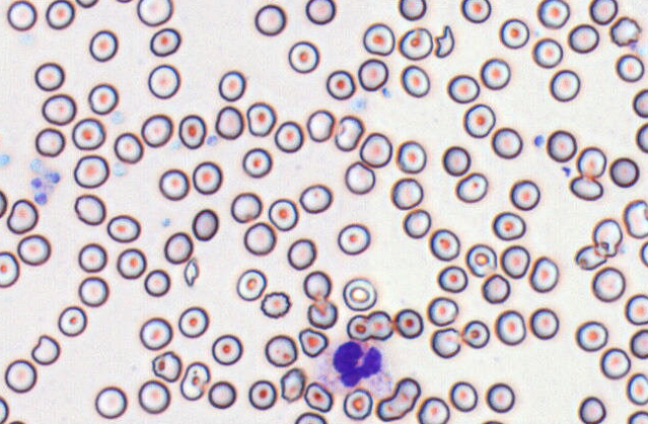GRAN: (322, 337, 391, 391)
PLT: (46, 169, 62, 184), (33, 190, 48, 206), (205, 132, 219, 148), (28, 176, 43, 190), (533, 134, 547, 148), (0, 152, 11, 168)
RBC: (376, 377, 420, 421), (73, 154, 109, 188), (591, 266, 625, 302), (342, 277, 376, 311), (398, 26, 432, 60), (4, 358, 37, 393), (359, 132, 392, 167), (147, 64, 180, 99), (6, 198, 38, 234), (494, 309, 526, 345), (94, 385, 127, 419), (243, 221, 276, 255), (139, 316, 172, 350), (71, 117, 105, 150), (140, 113, 173, 147), (138, 379, 170, 414), (41, 93, 76, 125), (463, 103, 495, 138), (529, 256, 559, 293), (264, 334, 297, 367), (362, 22, 395, 55), (465, 243, 497, 277), (17, 233, 50, 265), (390, 177, 423, 209), (455, 171, 488, 203), (337, 223, 370, 255), (254, 3, 286, 36), (287, 40, 319, 73), (246, 101, 276, 136), (599, 347, 631, 379), (73, 193, 105, 225), (230, 191, 262, 223), (344, 161, 375, 194), (575, 320, 608, 351), (357, 58, 388, 91), (429, 228, 460, 261), (87, 82, 118, 115), (546, 129, 577, 162), (500, 244, 530, 278), (192, 160, 222, 194), (342, 388, 373, 420), (211, 333, 242, 365), (609, 15, 641, 46), (158, 168, 189, 200), (491, 127, 522, 159), (549, 69, 580, 101), (163, 231, 193, 264), (236, 268, 266, 301), (268, 198, 298, 231), (299, 183, 332, 213), (88, 29, 118, 62), (400, 64, 430, 97), (480, 57, 510, 90), (396, 140, 426, 173), (106, 214, 140, 243), (214, 105, 243, 139), (178, 114, 206, 149), (430, 327, 461, 358), (78, 276, 109, 307), (6, 0, 37, 31), (532, 37, 563, 68), (509, 179, 540, 210), (576, 146, 606, 178), (426, 296, 458, 326), (116, 247, 146, 279), (178, 306, 208, 338), (529, 307, 559, 339), (567, 23, 599, 53), (499, 17, 529, 49), (492, 211, 525, 240), (287, 237, 316, 270), (446, 74, 479, 103), (136, 0, 172, 26), (306, 299, 337, 329), (57, 305, 87, 336), (393, 308, 423, 339), (609, 156, 639, 187), (34, 127, 65, 157), (113, 132, 143, 163), (325, 69, 355, 100), (242, 147, 272, 178), (274, 120, 303, 152), (306, 109, 334, 142), (537, 0, 570, 28), (416, 396, 450, 423), (34, 61, 64, 91), (485, 382, 514, 413), (441, 145, 470, 176), (149, 27, 180, 56), (449, 380, 477, 412), (191, 208, 218, 241), (569, 175, 603, 201), (302, 270, 331, 300), (78, 242, 107, 272), (481, 273, 510, 303), (402, 208, 431, 238), (45, 0, 75, 29), (260, 290, 291, 318), (248, 379, 276, 410), (436, 265, 467, 293), (218, 70, 246, 101), (207, 380, 236, 409), (461, 319, 490, 348), (615, 53, 644, 82), (366, 310, 393, 340), (578, 395, 606, 423), (143, 268, 170, 297), (305, 0, 335, 25), (588, 0, 618, 25), (624, 293, 647, 325), (460, 0, 491, 23), (0, 250, 19, 287), (626, 372, 647, 405), (346, 314, 371, 341), (398, 0, 426, 20), (630, 328, 647, 359), (632, 88, 647, 118), (294, 411, 326, 423), (635, 122, 647, 153), (627, 410, 647, 423), (0, 396, 9, 423), (639, 240, 647, 267), (0, 189, 7, 218), (75, 0, 98, 8), (479, 419, 504, 424), (8, 420, 26, 424), (114, 0, 133, 3)
Schistocyte: (593, 218, 623, 258), (180, 361, 210, 400), (334, 116, 364, 153), (623, 199, 648, 240), (151, 352, 183, 383), (279, 368, 306, 404), (434, 22, 458, 61), (31, 335, 61, 365), (298, 329, 328, 359), (304, 382, 332, 413), (575, 245, 607, 270), (184, 258, 199, 287)
